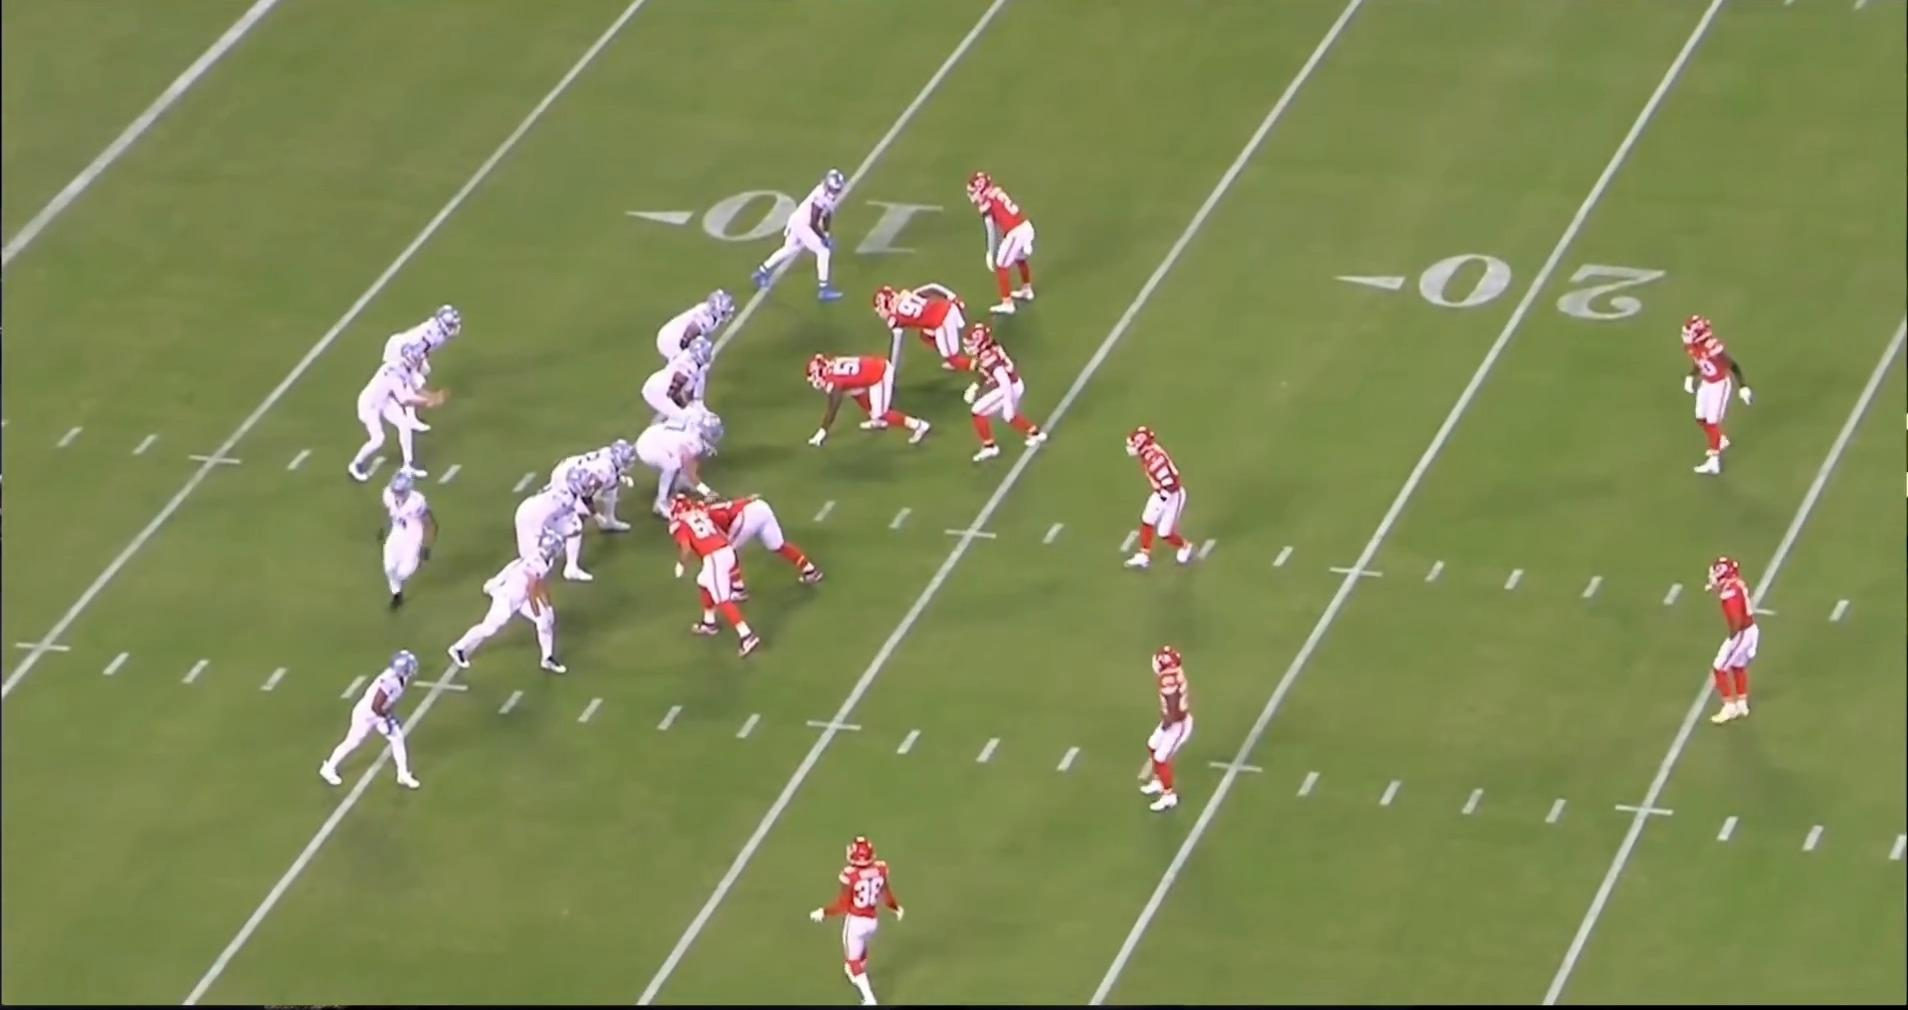player: (450, 537, 584, 686), (314, 645, 431, 799), (673, 495, 771, 662), (481, 459, 598, 597), (755, 166, 864, 304), (818, 836, 902, 1005), (691, 488, 831, 589), (797, 353, 933, 452), (960, 320, 1053, 464), (344, 353, 433, 491), (1695, 553, 1765, 727), (1679, 309, 1749, 483), (869, 284, 992, 382), (375, 459, 450, 619), (1114, 426, 1192, 579), (1140, 639, 1208, 814), (969, 162, 1046, 316), (640, 411, 736, 523), (663, 282, 747, 409), (543, 435, 631, 549), (385, 307, 461, 425), (635, 335, 715, 424)
